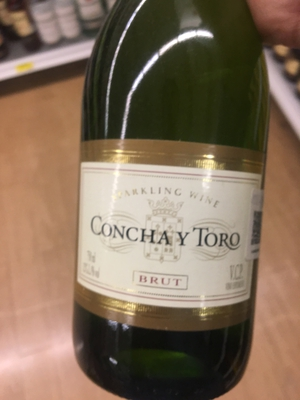brut: (74, 16, 267, 400)
